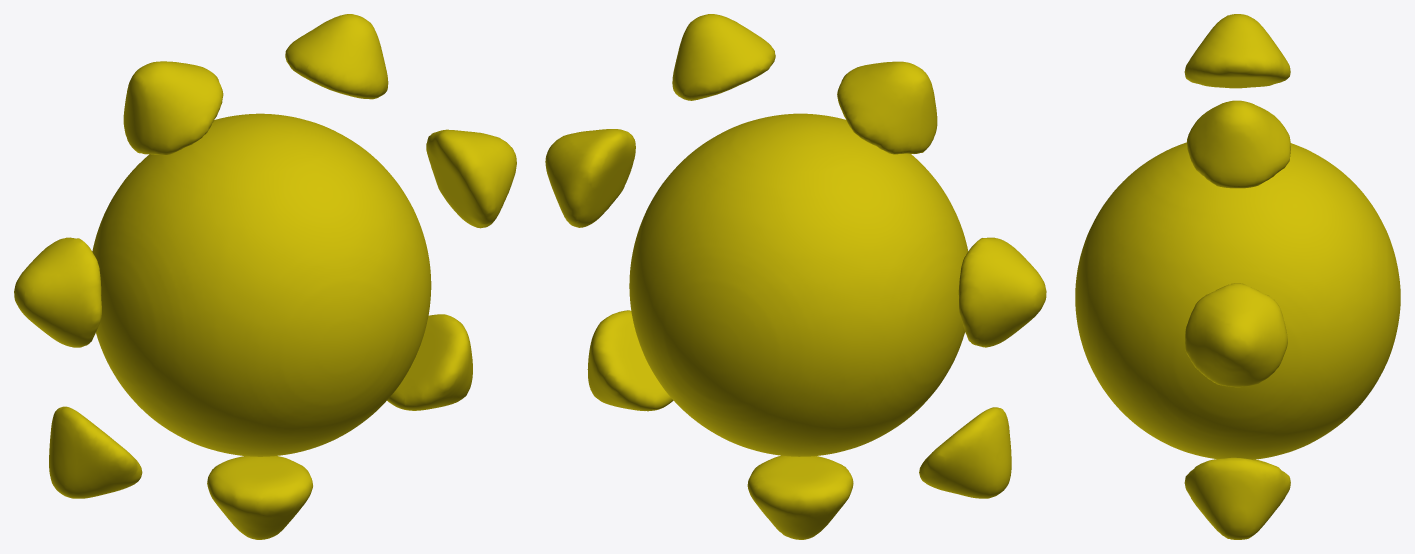
File: Sun.glb
3 views of the same model, side by side, from view 1: azimuth 30°, elevation 25°; view 2: azimuth 150°, elevation 25°; view 3: azimuth 270°, elevation 25° (orthographic). The views are drawn at different scales.
Visible parts, largest first — view 1: Sphere; view 2: Sphere; view 3: Sphere.
Part boxes in pixels (bbox=[...]): Sphere: bbox=[14, 14, 516, 539]; Sphere: bbox=[545, 14, 1046, 539]; Sphere: bbox=[1075, 14, 1400, 539].
Bounding box in the file's own units: 3.29 × 3.17 × 1.97.
